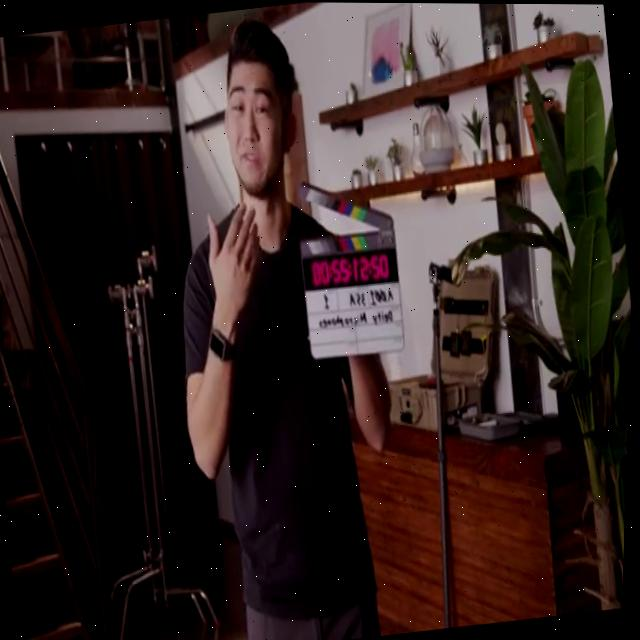Clapperboard: (300, 183, 404, 360)
